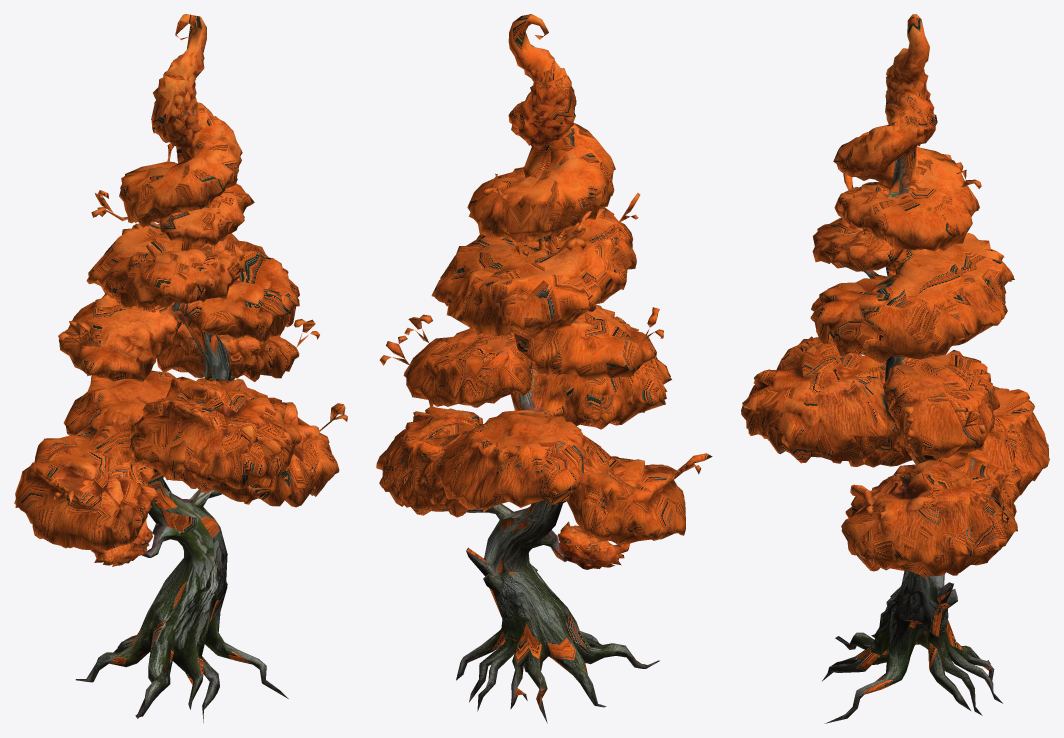
The model's file is Copper_Cloud_Bonsai.glb.
3 views of the same model, side by side, from view 1: azimuth 30°, elevation 25°; view 2: azimuth 150°, elevation 25°; view 3: azimuth 270°, elevation 25° (orthographic). The views are drawn at different scales.
Visible parts, largest first — view 1: Copper_Cloud_Bonsai; view 2: Copper_Cloud_Bonsai; view 3: Copper_Cloud_Bonsai.
Boxes of the visible parts, x1,y1,x2,y2 form: Copper_Cloud_Bonsai: [14, 14, 347, 722]; Copper_Cloud_Bonsai: [376, 14, 712, 723]; Copper_Cloud_Bonsai: [741, 14, 1049, 723].
Size of the model in its own units: 0.8574 by 1.89 by 0.7712.
1 material, 1 textured.
